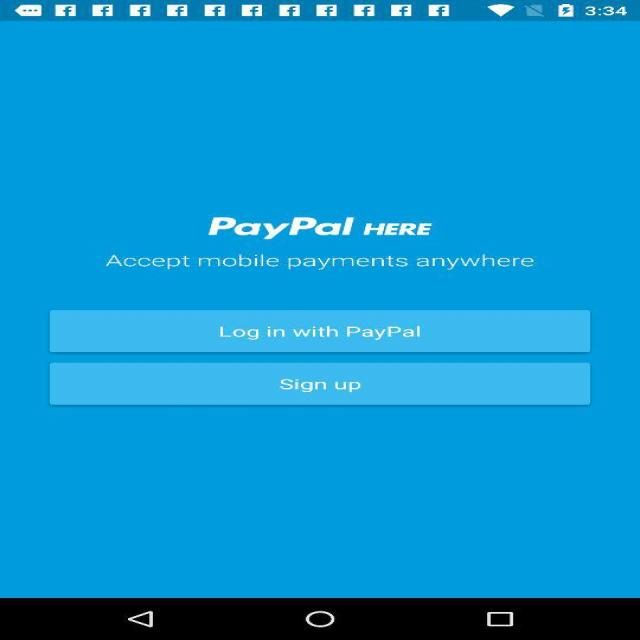button: (54, 365, 584, 408), (51, 310, 589, 350)
text: (92, 247, 557, 273), (183, 214, 481, 251)
